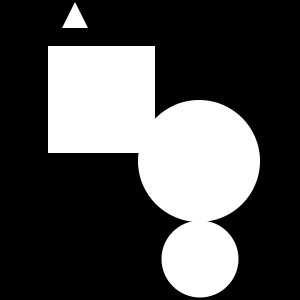circle: (48, 46, 155, 153)
rectangle: (138, 100, 260, 222), (162, 220, 238, 298)
triangle: (62, 2, 88, 28)
